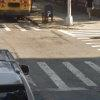Crosswalk: (30, 51, 95, 98)
